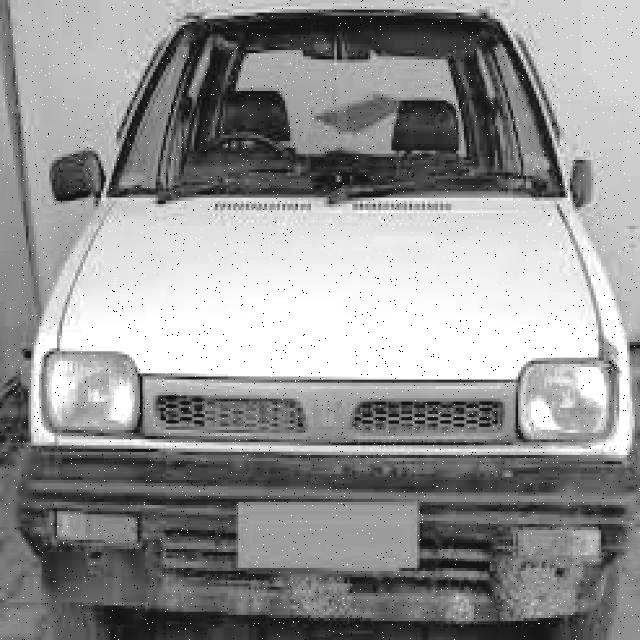Car: (7, 0, 627, 627)
